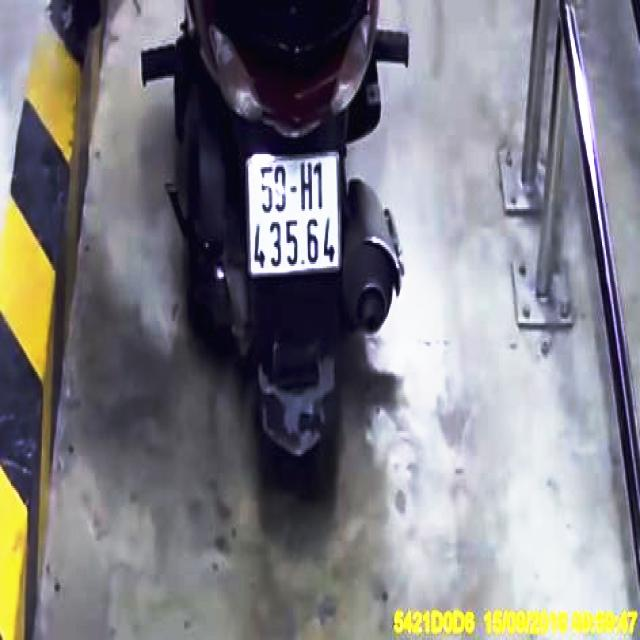license_plate: (249, 152, 341, 275)
